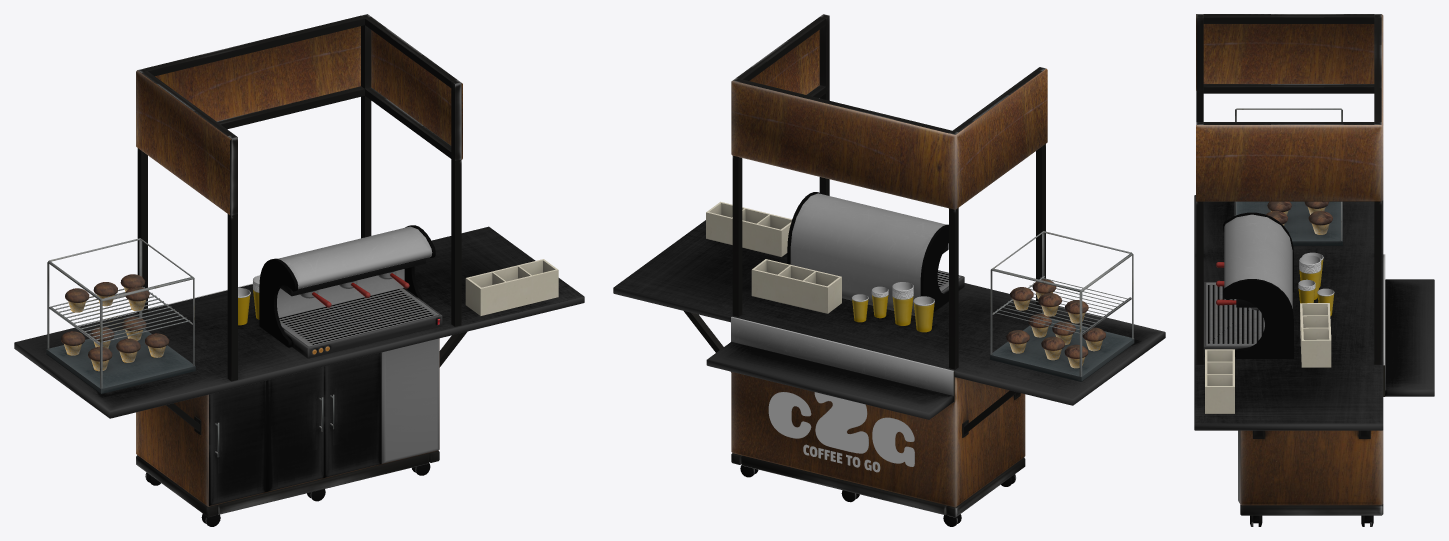
Rendered from food_cart_2_export.fbx.
3 renders of one model, left to right at view 1: azimuth 30°, elevation 25°; view 2: azimuth 150°, elevation 25°; view 3: azimuth 270°, elevation 25°, orthographic. The views are drawn at different scales.
Parts seen in each view (by area): view 1: Cube.006, Cube.002; view 2: Cube.006, Cube.002, Cube.003; view 3: Cube.006, Cube.002.
Boxes of the visible parts, x1,y1,x2,y2 form: Cube.006: (14,14,584,526); Cube.002: (61,225,558,371); Cube.006: (613,14,1165,526); Cube.002: (706,192,1105,368); Cube.003: (768,392,914,472); Cube.006: (1194,14,1434,526); Cube.002: (1203,201,1334,413).
Size of the model in its own units: 365 by 302 by 162.
